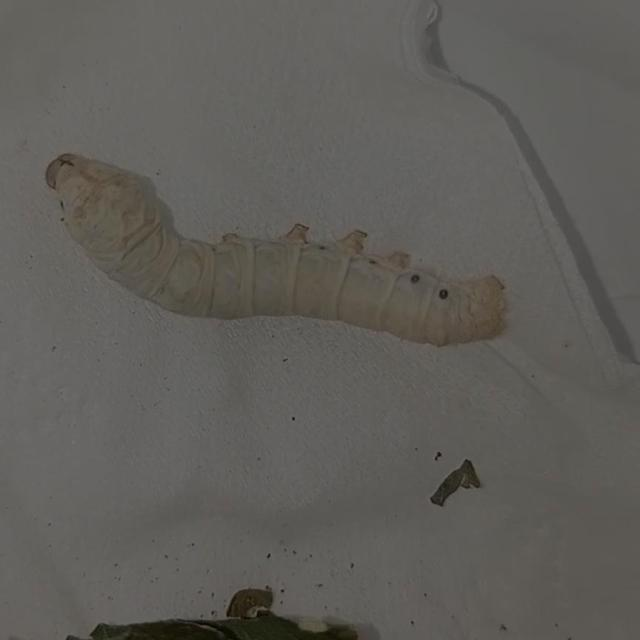Healthy: (31, 104, 533, 371)
